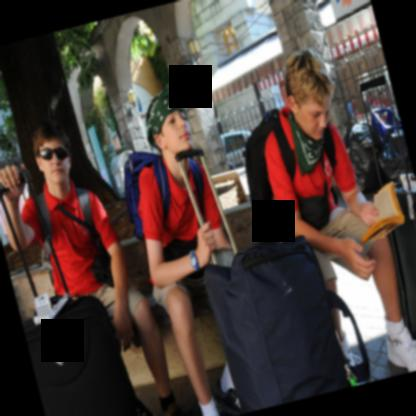backpack: (243, 108, 296, 237), (37, 188, 94, 262), (124, 150, 170, 239)
suitcase: (175, 146, 370, 414), (0, 173, 151, 416), (359, 75, 416, 341)
